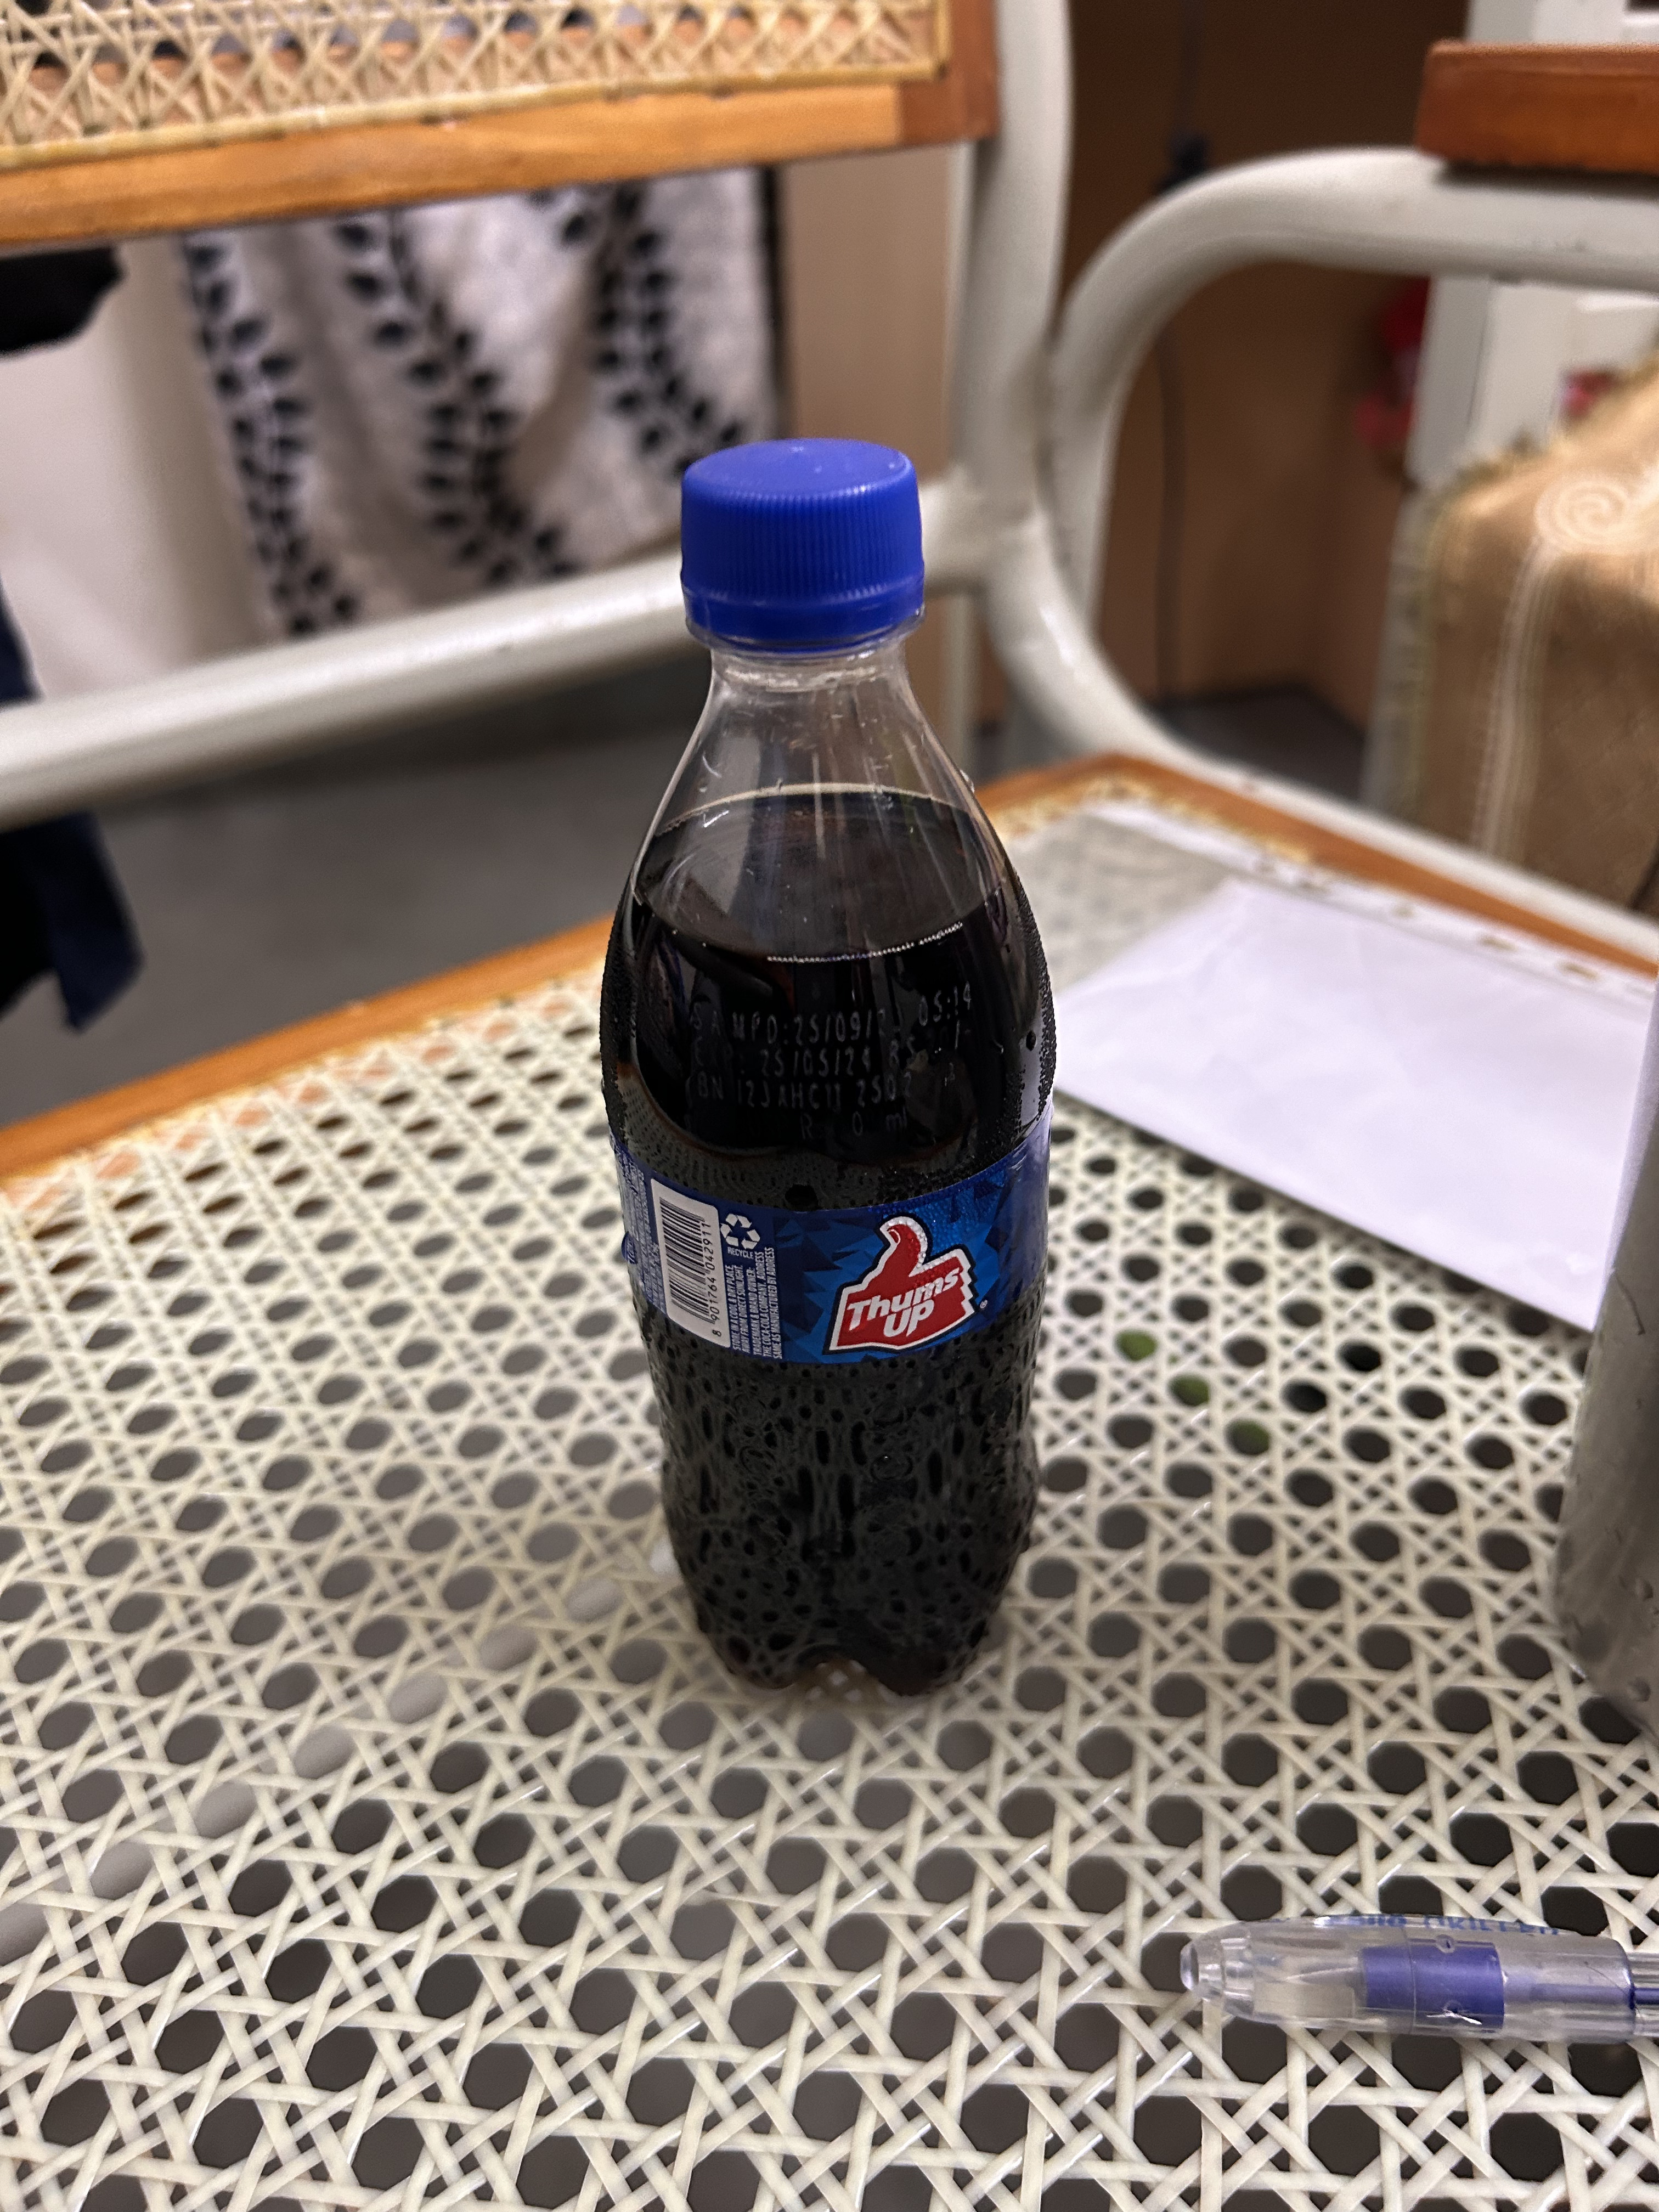sealstable: (647, 404, 962, 707)
